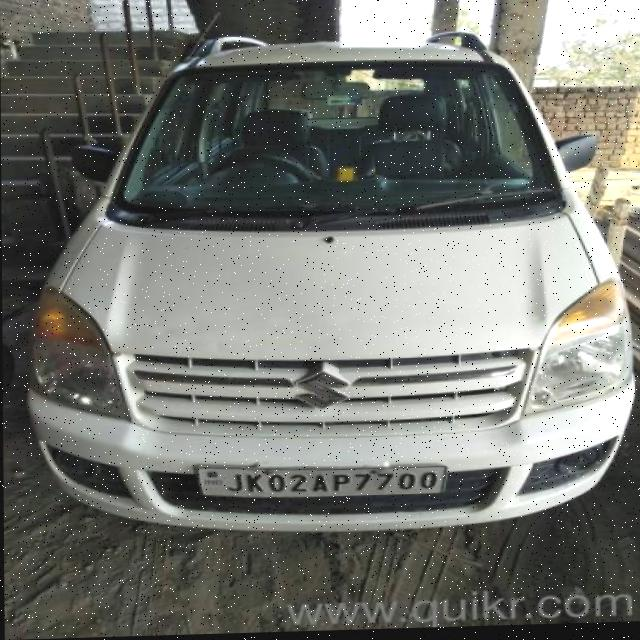plate: (187, 461, 453, 503)
